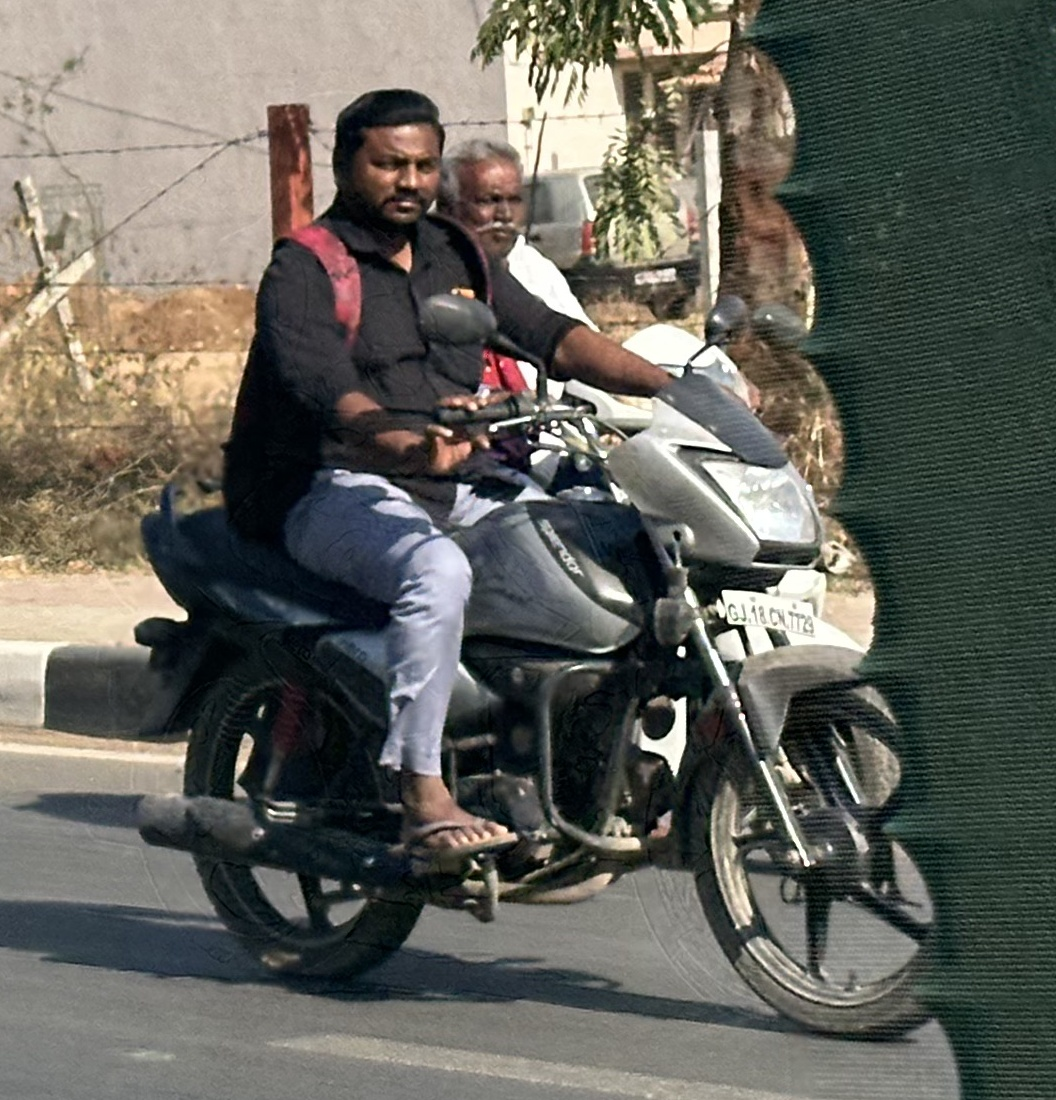BikeWithRider: (111, 76, 955, 1047)
NoHelmet: (312, 80, 461, 240), (427, 130, 545, 266)
